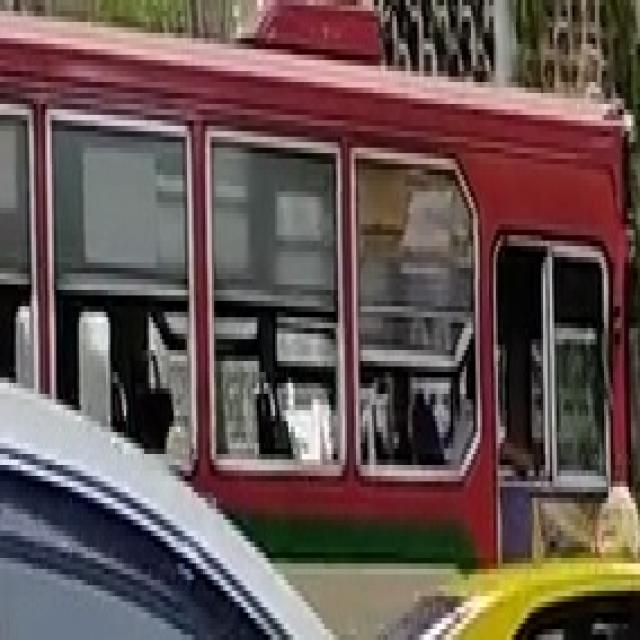door: (0, 0, 633, 569), (491, 230, 611, 563)
